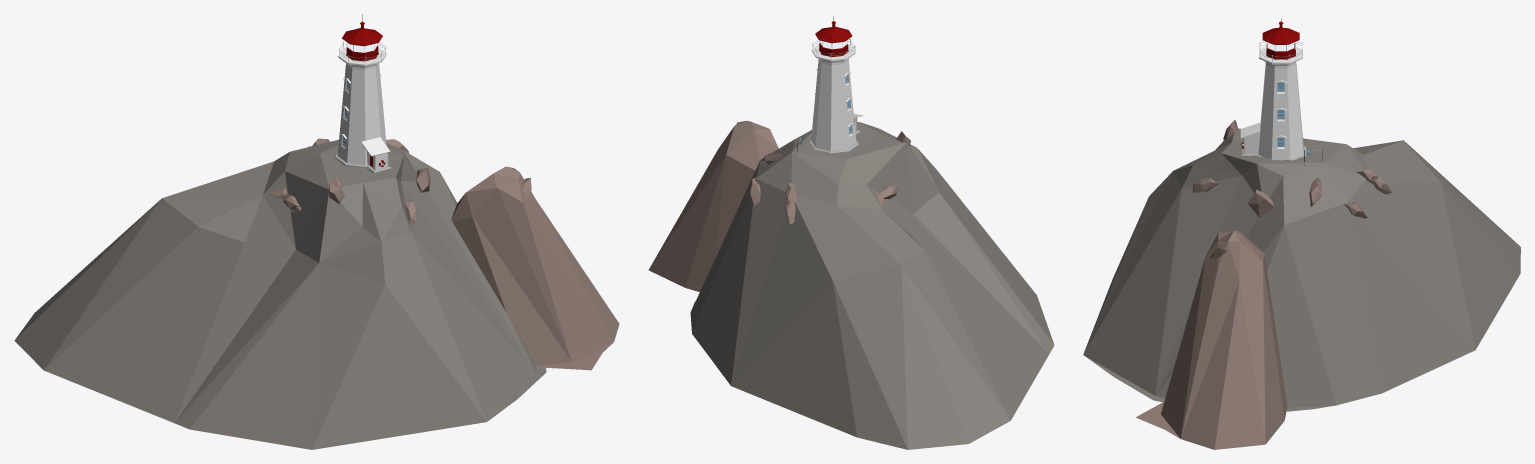
File: lighthouseWLight.glb
3 views of the same model, side by side, from view 1: azimuth 30°, elevation 25°; view 2: azimuth 150°, elevation 25°; view 3: azimuth 270°, elevation 25° (orthographic). The views are drawn at different scales.
Parts seen in each view (by area): view 1: ambient, lighthouse; view 2: ambient, lighthouse; view 3: ambient, lighthouse.
Boxes of the visible parts, x1,y1,x2,y2 form: ambient: (14, 138, 619, 449); lighthouse: (334, 14, 390, 173); ambient: (649, 120, 1054, 449); lighthouse: (796, 16, 862, 153); ambient: (1083, 120, 1520, 449); lighthouse: (1240, 18, 1322, 162).
Bounding box in the file's own units: 1.41 × 0.955 × 1.15.
